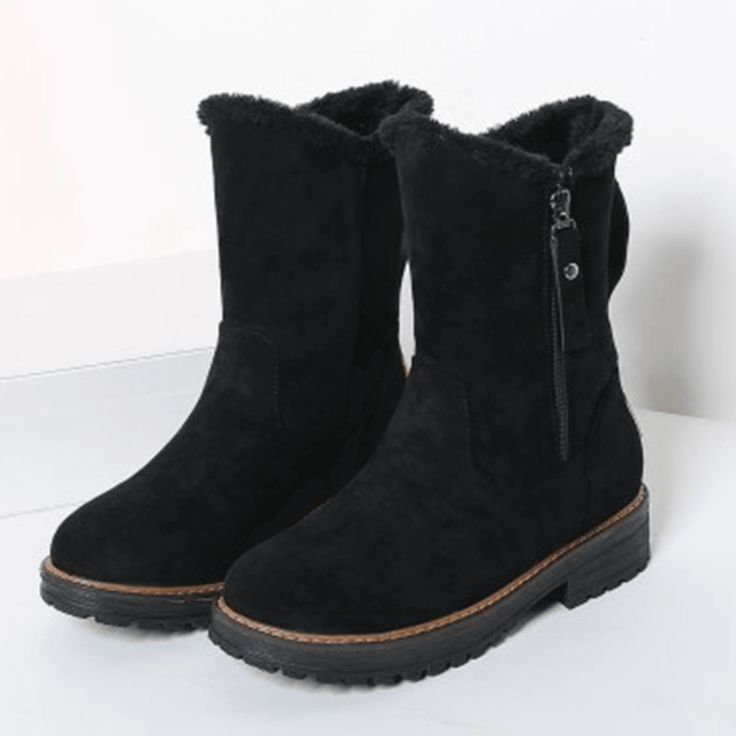gamuza: (50, 124, 643, 633)
